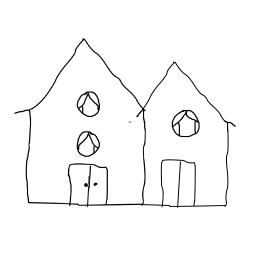door: (154, 148, 206, 211), (62, 160, 114, 211)
open_window: (168, 106, 204, 146), (69, 125, 105, 162), (71, 84, 109, 119)
single_line_roof: (11, 35, 150, 117), (126, 57, 238, 136)
wall: (20, 112, 150, 211), (133, 119, 237, 216)
